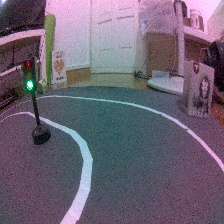green: (20, 56, 53, 145)
